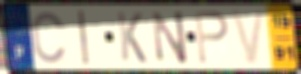C: (31, 9, 69, 66)
I: (76, 8, 91, 67)
K: (115, 10, 149, 65)
N: (150, 9, 190, 66)
P: (193, 9, 230, 66)
V: (229, 9, 267, 67)
